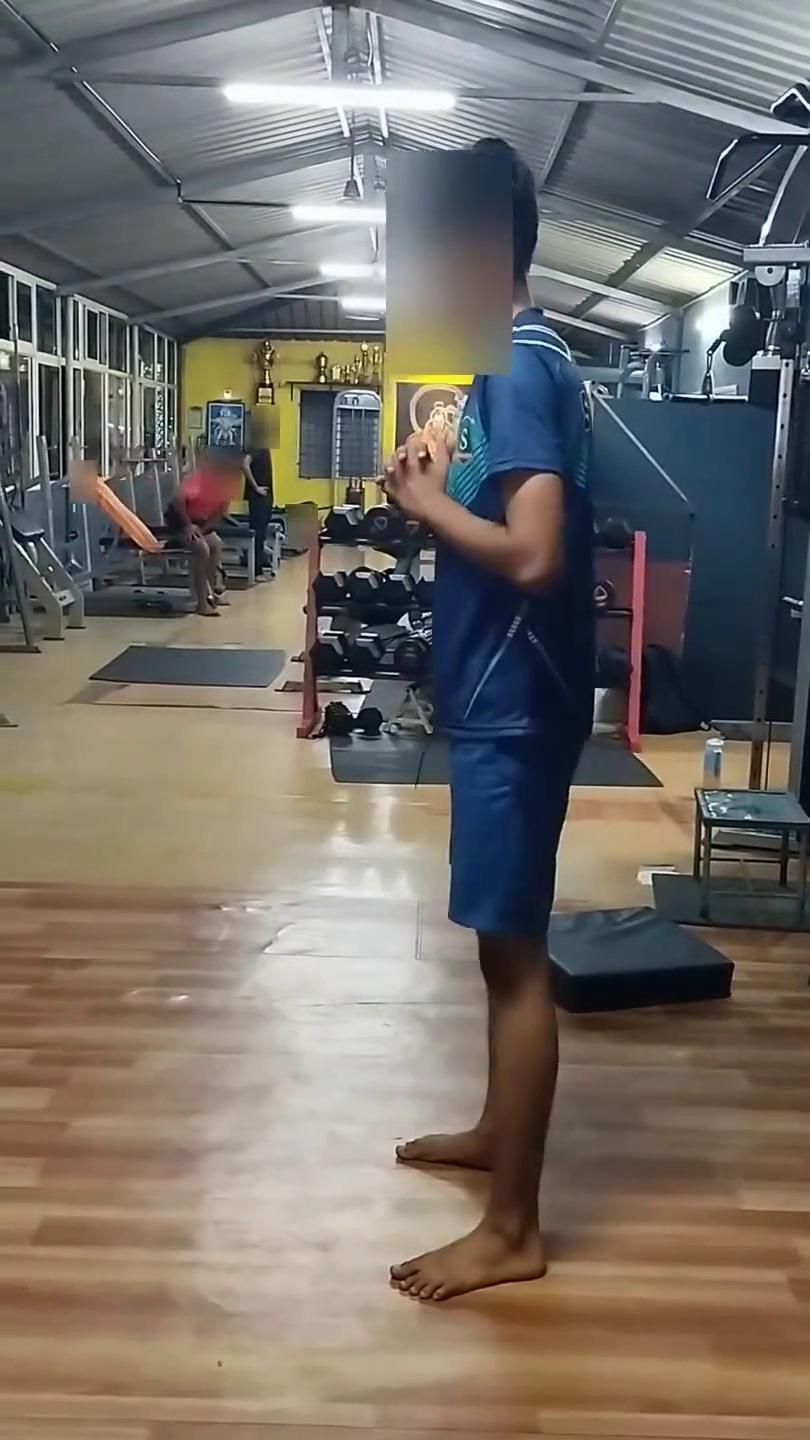squat: (314, 245, 623, 1311)
